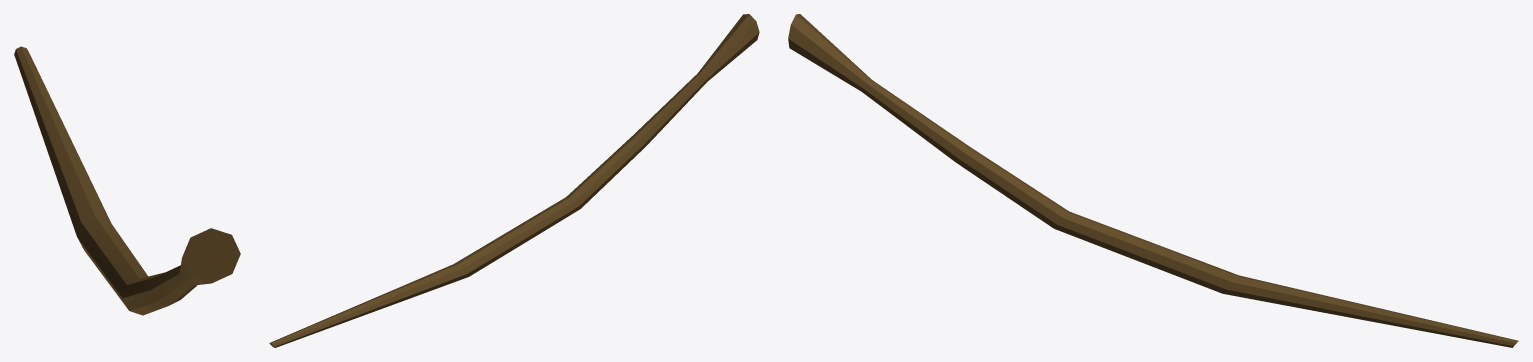
Rendered from Branch05.fbx.
3 views of the same model, side by side, from view 1: azimuth 30°, elevation 25°; view 2: azimuth 150°, elevation 25°; view 3: azimuth 270°, elevation 25° (orthographic). The views are drawn at different scales.
Visible parts, largest first — view 1: Branch05; view 2: Branch05; view 3: Branch05.
Part boxes in pixels (bbox=[...]): Branch05: bbox=[14, 46, 240, 315]; Branch05: bbox=[269, 14, 759, 347]; Branch05: bbox=[788, 14, 1518, 347].
Size of the model in its own units: 35.97 by 28.55 by 87.47.
